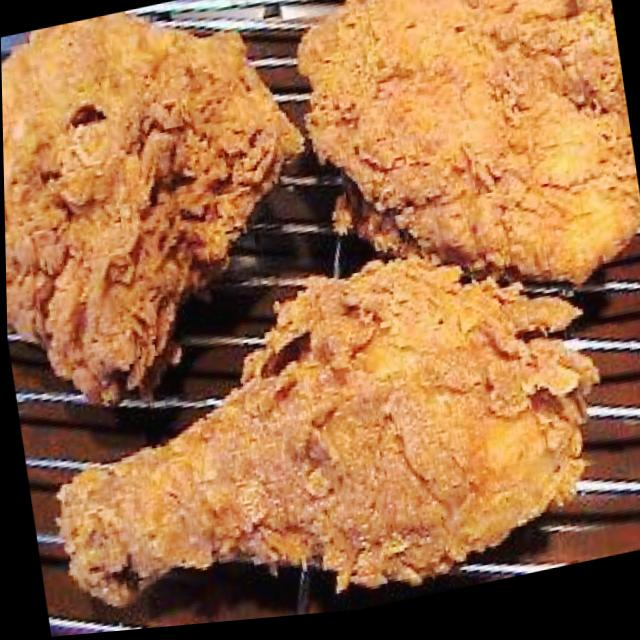fried_chicken: (29, 217, 616, 638), (0, 0, 334, 422), (283, 0, 640, 332)
